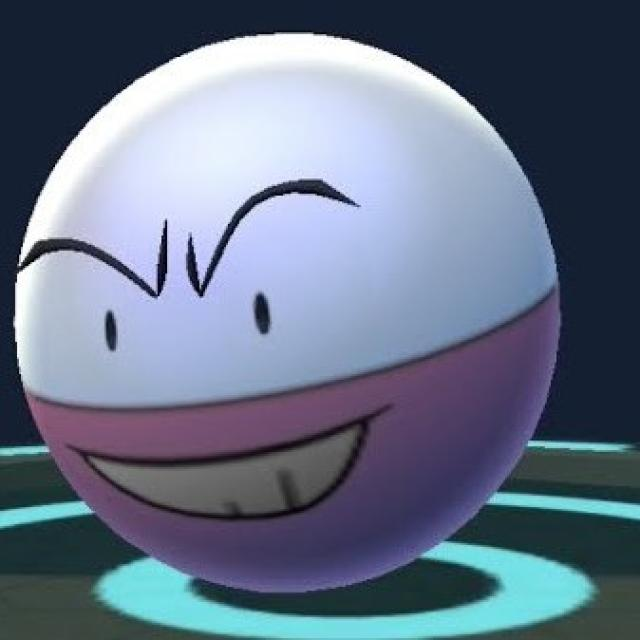Electrode: (9, 31, 563, 589)
